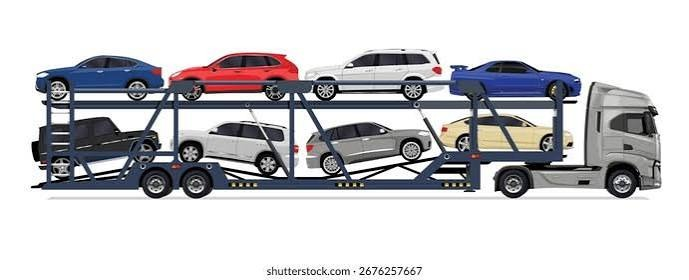car: (42, 61, 656, 202), (195, 120, 411, 179), (188, 123, 336, 175), (307, 126, 440, 179), (314, 50, 452, 99), (166, 54, 311, 99), (167, 52, 301, 97), (35, 57, 168, 102), (444, 59, 583, 100)
